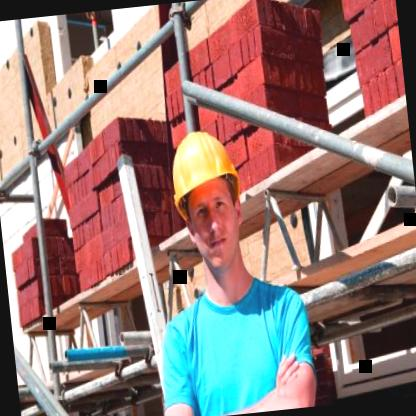helmet: (155, 111, 260, 283)
